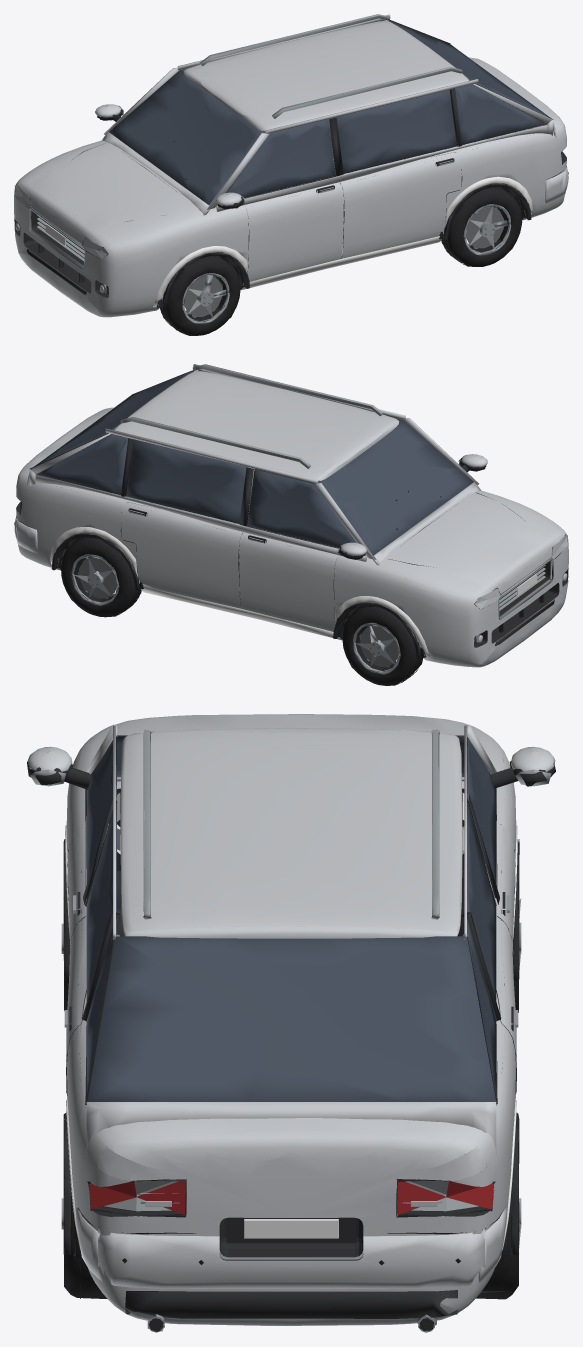
File: suv-v2.glb
The picture shows the model from 3 angles, top to bottom: view 1: azimuth 30°, elevation 25°; view 2: azimuth 150°, elevation 25°; view 3: azimuth 270°, elevation 25°; orthographic projection. The views are drawn at different scales.
Visible parts, largest first — view 1: paint, glass.001, rubber.001, black.001, chrome, cladding, steel.001, clearlens; view 2: paint, glass.001, rubber.001, black.001, chrome, cladding, steel.001, clearlens; view 3: paint, glass.001, black.001, chrome, redlens, rubber.001, white, cladding.
Part boxes in pixels (x1,y1,x2,y2): paint: [14, 14, 568, 317]; glass.001: [109, 20, 552, 205]; rubber.001: [160, 187, 522, 335]; black.001: [14, 20, 568, 309]; chrome: [18, 14, 511, 323]; cladding: [153, 176, 532, 307]; steel.001: [184, 206, 504, 317]; clearlens: [15, 184, 107, 292]; paint: [14, 364, 568, 667]; glass.001: [34, 369, 473, 555]; rubber.001: [61, 537, 422, 685]; black.001: [14, 370, 568, 659]; chrome: [71, 364, 564, 674]; cladding: [50, 527, 429, 657]; steel.001: [78, 557, 398, 667]; clearlens: [475, 534, 567, 642]; paint: [27, 714, 555, 1325]; glass.001: [86, 735, 496, 1101]; black.001: [27, 731, 555, 1331]; chrome: [30, 729, 551, 1332]; redlens: [89, 1180, 493, 1215]; rubber.001: [64, 966, 518, 1299]; white: [244, 1219, 338, 1238]; cladding: [65, 825, 517, 1250].
Size of the model in its own units: 4.49 by 1.73 by 2.17.
